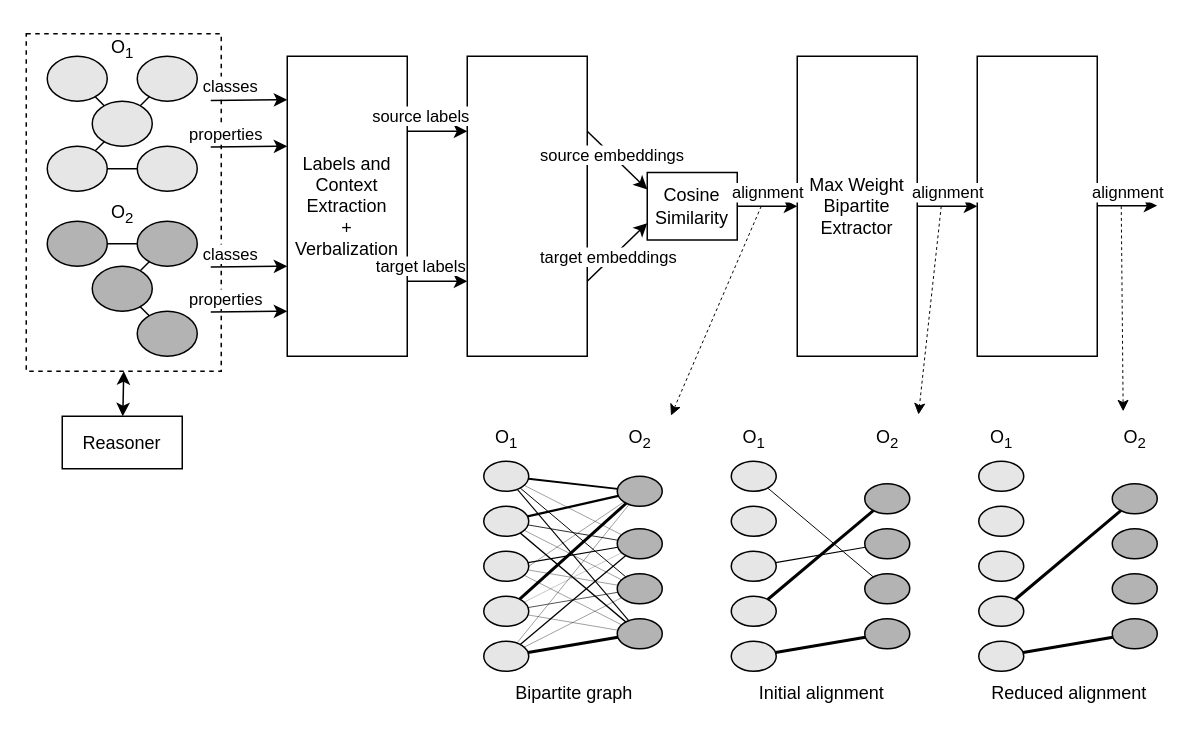
This 1196x741 diagram has some shape labels left out. Each missing label, with the centre of its shape:
"Fine-tuned Model" belongs at (x=526, y=205).
"Threshold filter" belongs at (x=1036, y=205).
